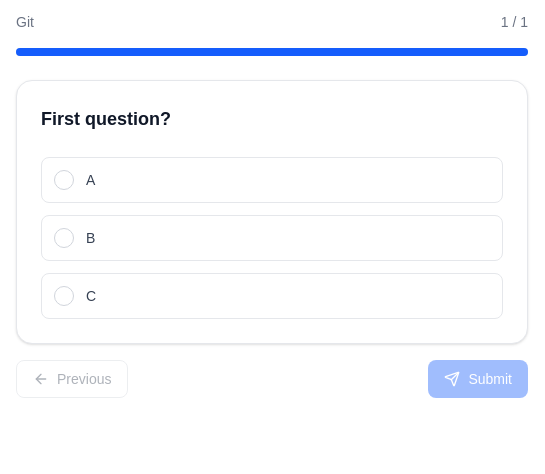
it: QuizRunner › ignores answer clicks after submission
Click the button "B": [64, 238] box [41,215,503,261]
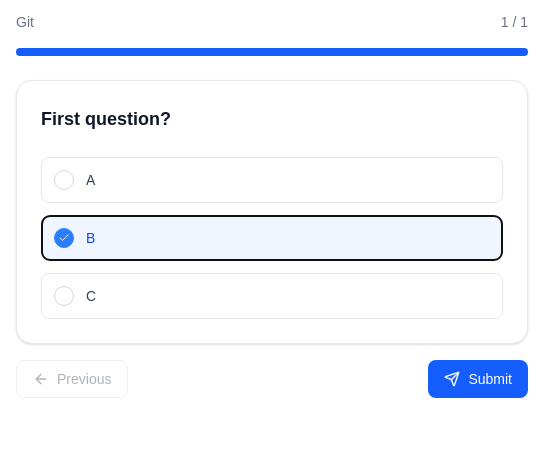
Click the button "Submit": [478, 379] box [428,360,528,398]
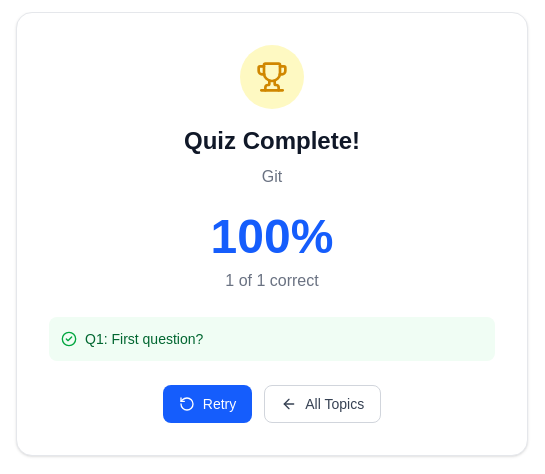
expect the heading "Quiz Complete!" is shown: met, box [184,127,360,154]
